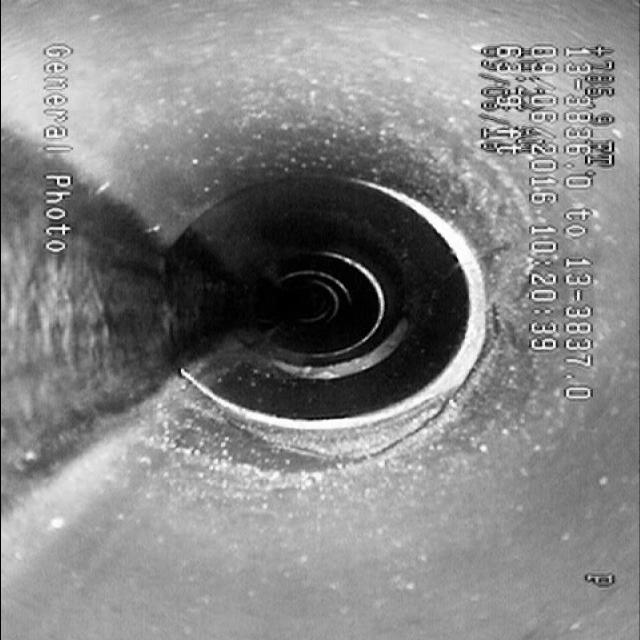Crack: (358, 344, 514, 469)
